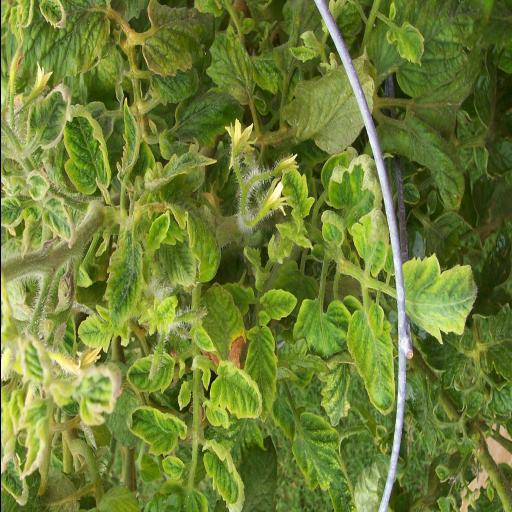disease_tomato: (404, 252, 478, 342), (291, 413, 357, 512), (344, 296, 394, 416), (142, 0, 216, 79), (102, 207, 146, 338), (60, 104, 110, 196), (198, 276, 244, 360), (206, 28, 256, 104), (242, 320, 276, 428), (208, 358, 264, 420), (124, 406, 188, 458), (351, 203, 389, 287), (200, 438, 244, 510), (184, 206, 222, 282), (27, 82, 69, 148), (72, 308, 126, 353), (318, 361, 354, 428), (123, 351, 176, 392), (384, 18, 425, 70), (280, 163, 314, 225), (40, 196, 76, 248), (157, 244, 197, 286), (258, 286, 298, 324)
